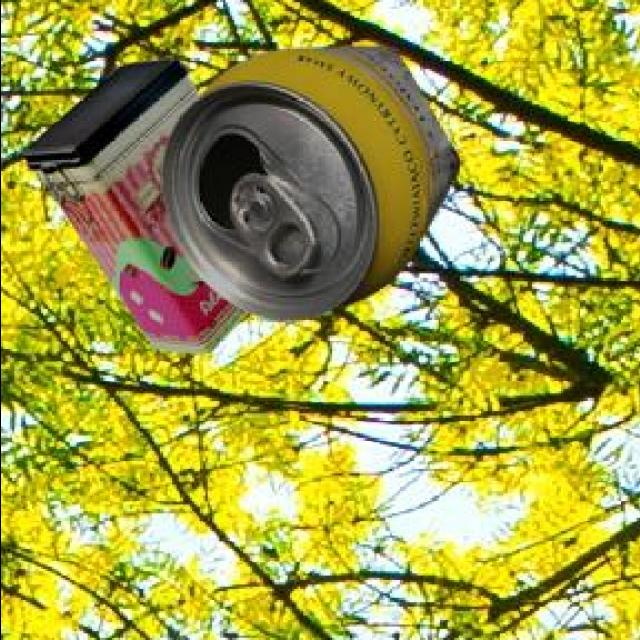logam: (166, 46, 463, 317), (26, 54, 250, 350)
